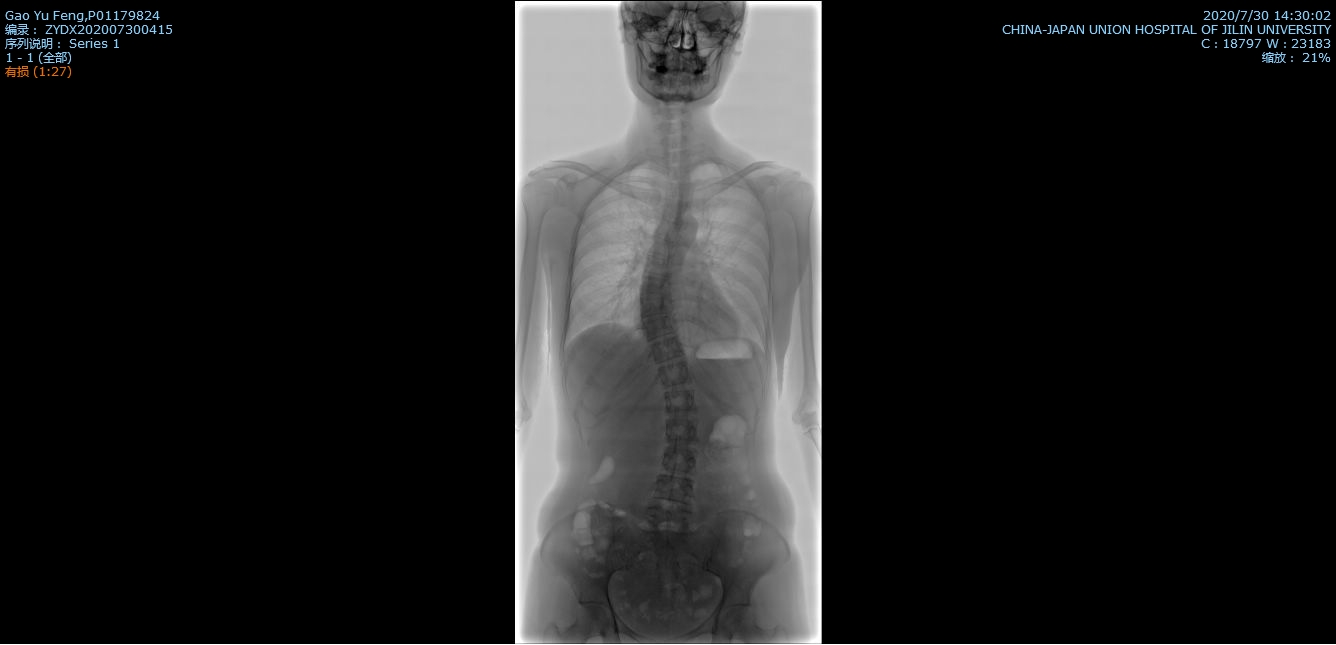Bone: (649, 506, 690, 527), (656, 476, 691, 499), (664, 446, 697, 468), (666, 418, 698, 440), (644, 320, 676, 341), (658, 366, 692, 385), (652, 338, 682, 359), (646, 273, 676, 293), (663, 393, 696, 411), (641, 297, 672, 314), (650, 250, 677, 265)
